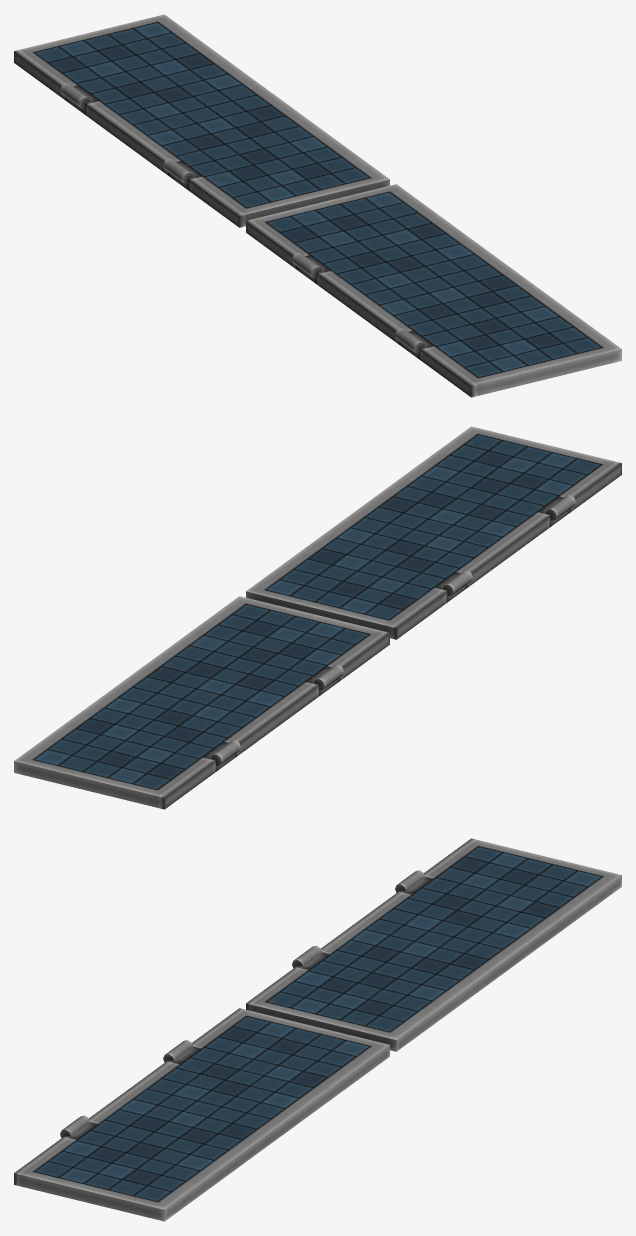
Rendered from eridani_solar_long_narrow_top.obj.
3 views of the same model, one above another, from view 1: azimuth 30°, elevation 25°; view 2: azimuth 150°, elevation 25°; view 3: azimuth 330°, elevation 25° (orthographic).
Visible parts, largest first — view 1: mesh1; view 2: mesh1; view 3: mesh1.
Boxes of the visible parts, x1,y1,x2,y2 form: mesh1: (14, 14, 621, 397); mesh1: (14, 426, 621, 809); mesh1: (14, 838, 621, 1221).
Bounding box in the file's own units: 0.35 × 0.0375 × 1.78.
Materials: 1 (1 with a texture image).
